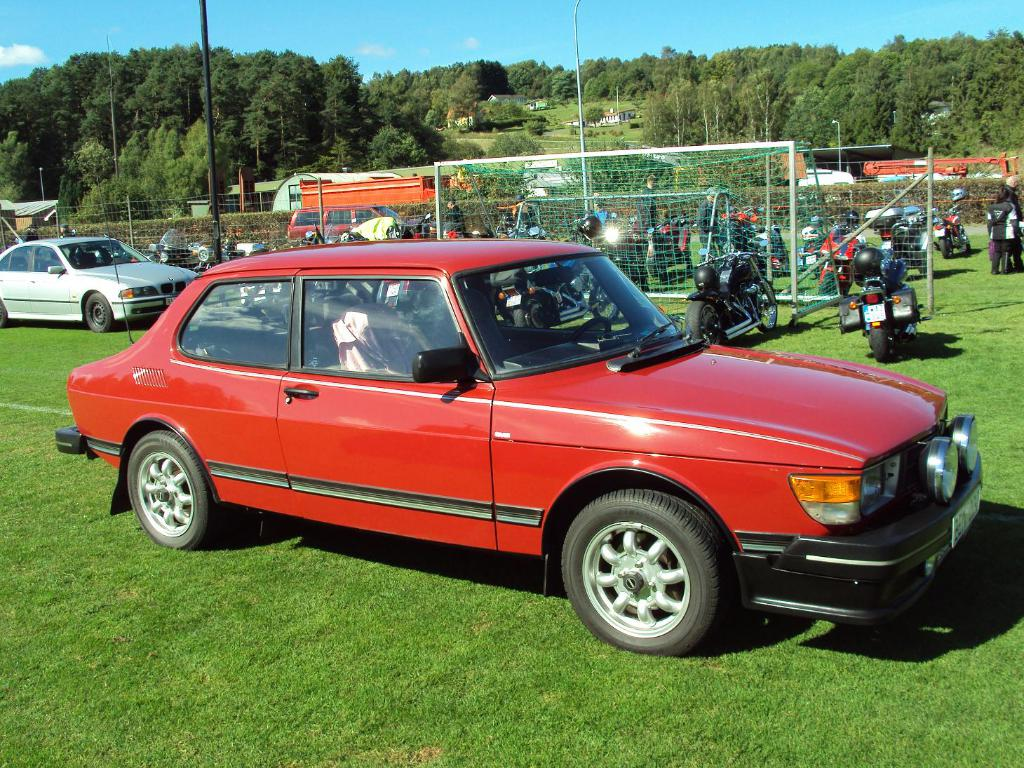Car: (50, 237, 989, 702), (0, 242, 194, 324), (282, 194, 409, 246)
